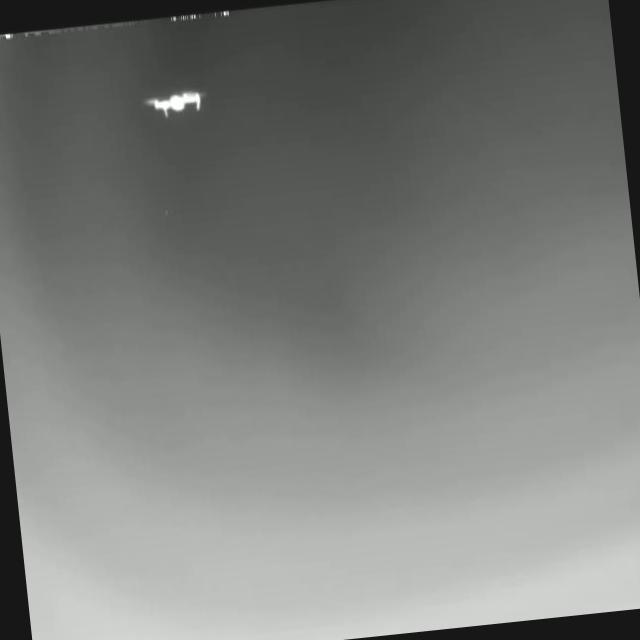DRONE: (140, 88, 209, 117)
